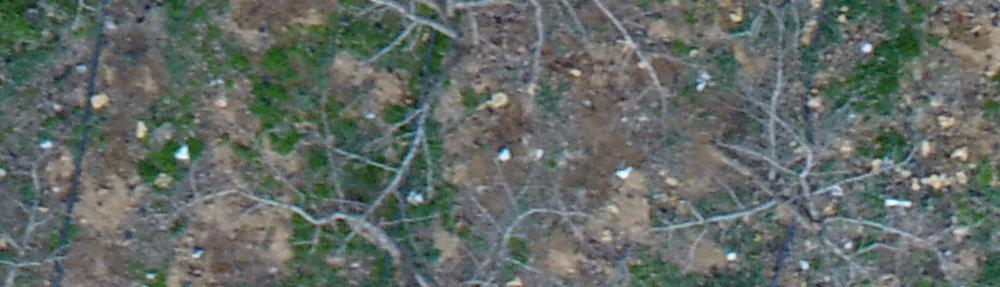apple: (651, 19, 979, 277), (159, 89, 608, 277)
